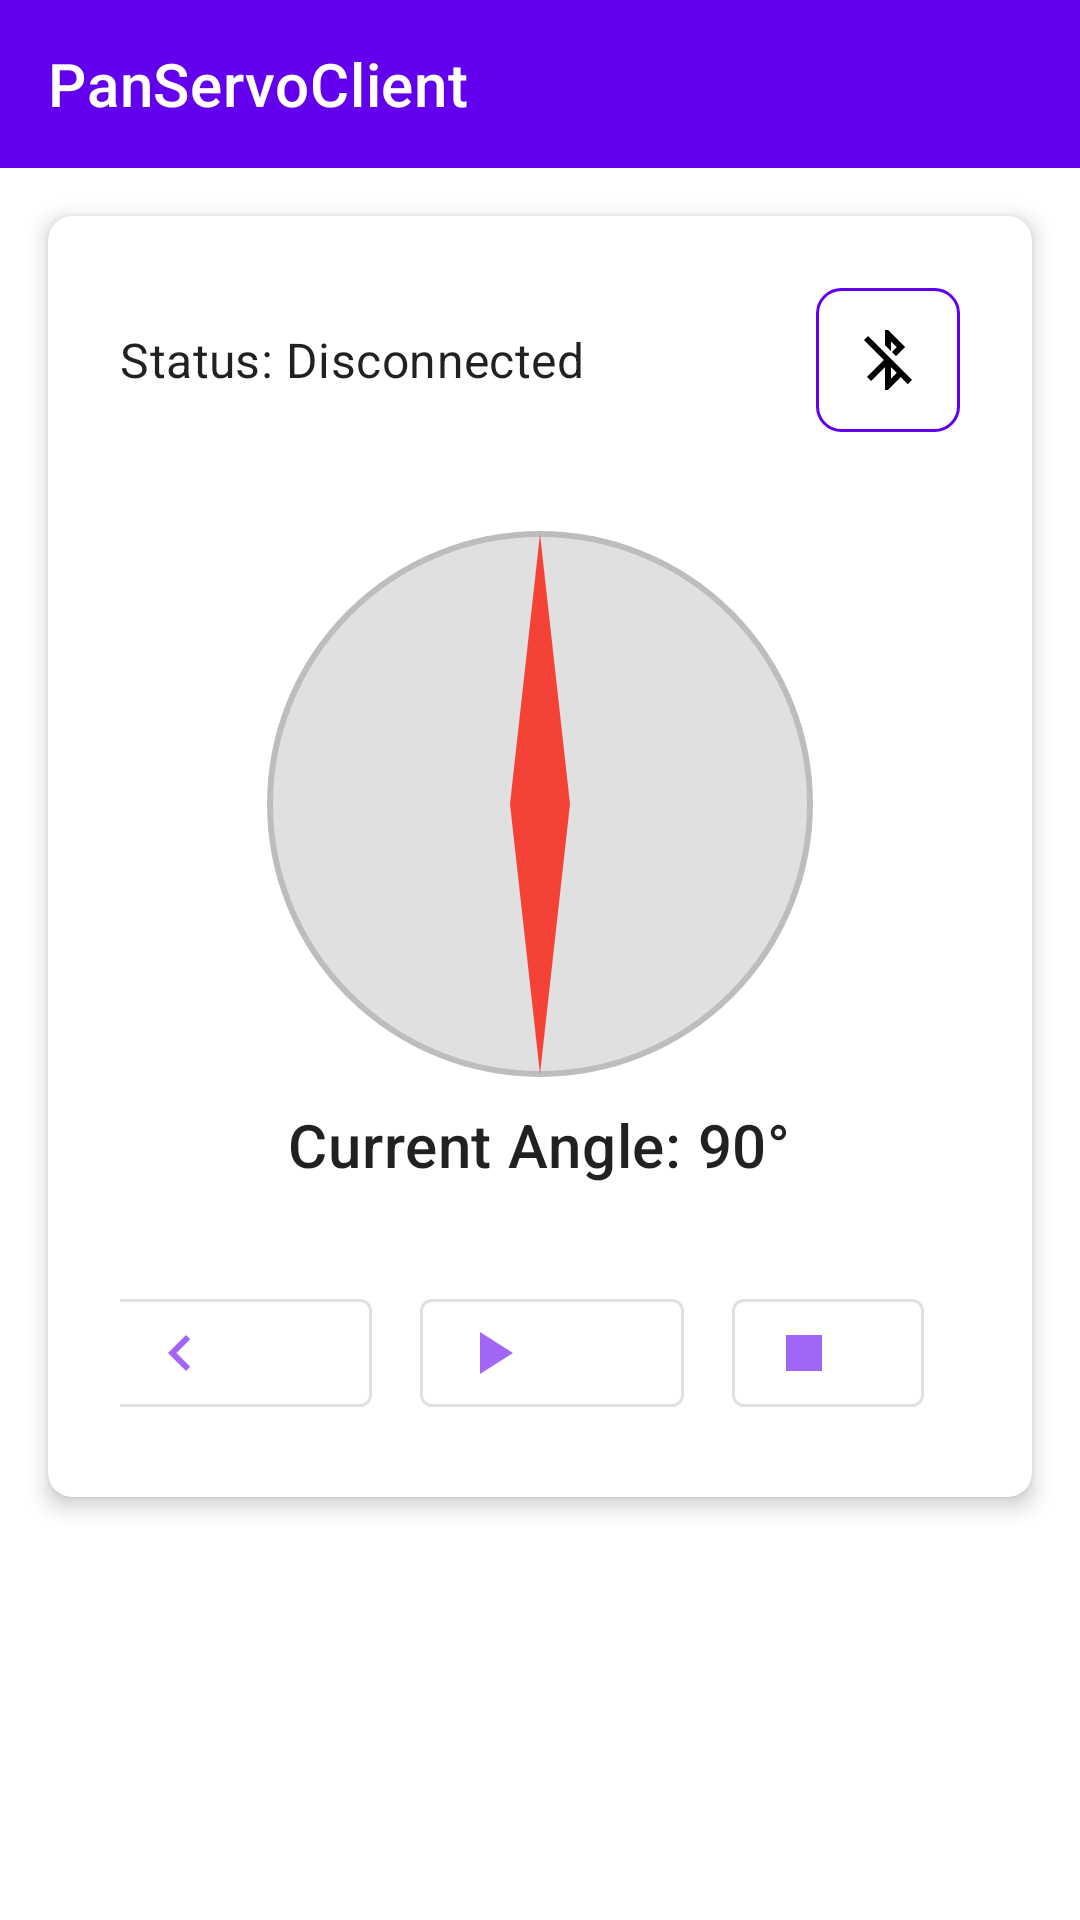

Screen size 1080 × 1920. Icon name, then its box in pixels as (x1, y1, x2, y2):
arrow left: (120, 1299, 372, 1407)
play arrow: (420, 1299, 684, 1407)
stop: (732, 1299, 924, 1407)
